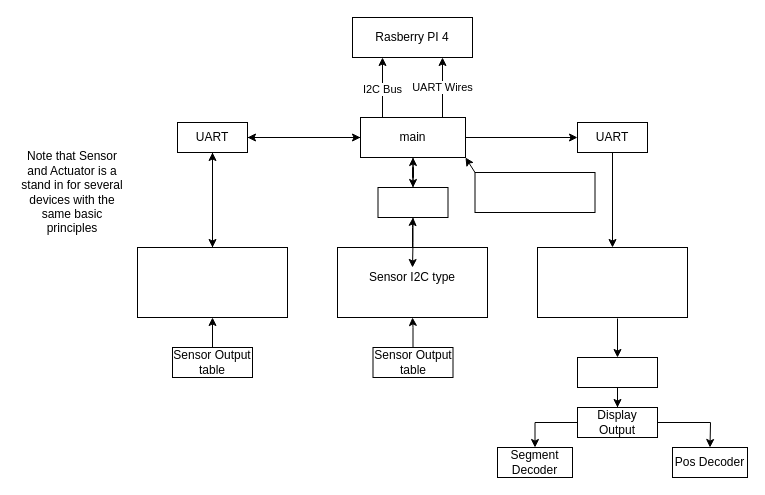
Image size: 765x495. Some labels were removed from this diagram. The centre of each missing label's shape, as x and y in pixels:
"Actuator" goes at (612,282).
"I2C" goes at (412,202).
"Input Control Switches" goes at (534,192).
"Output Calculation" goes at (617,372).
"Sensor UART type" goes at (212,282).
